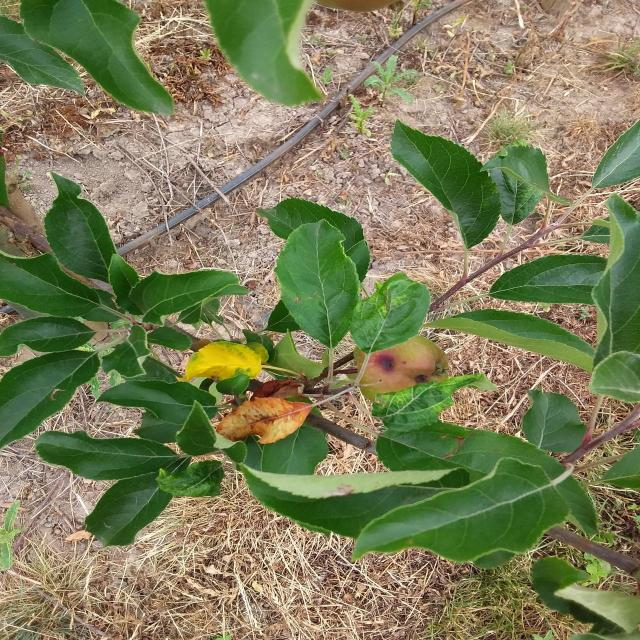-FireBlight-: (185, 352, 354, 432)
